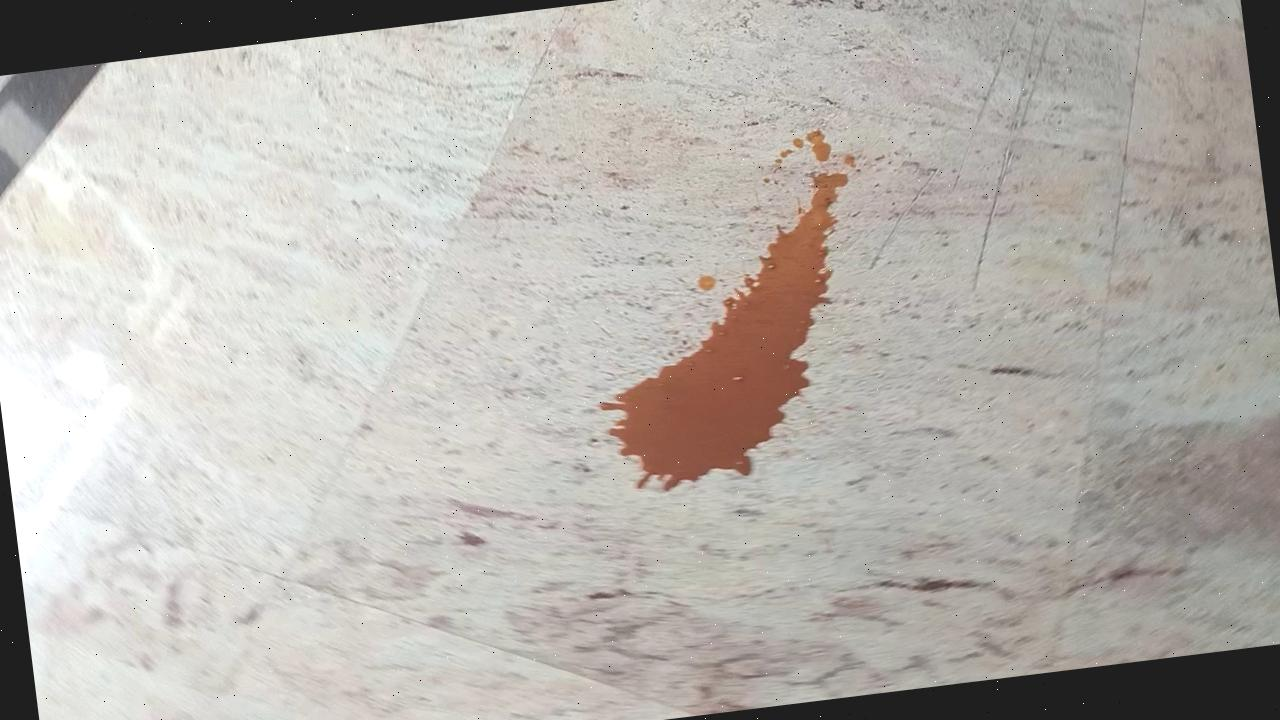dirty_floor: (569, 123, 896, 496)
